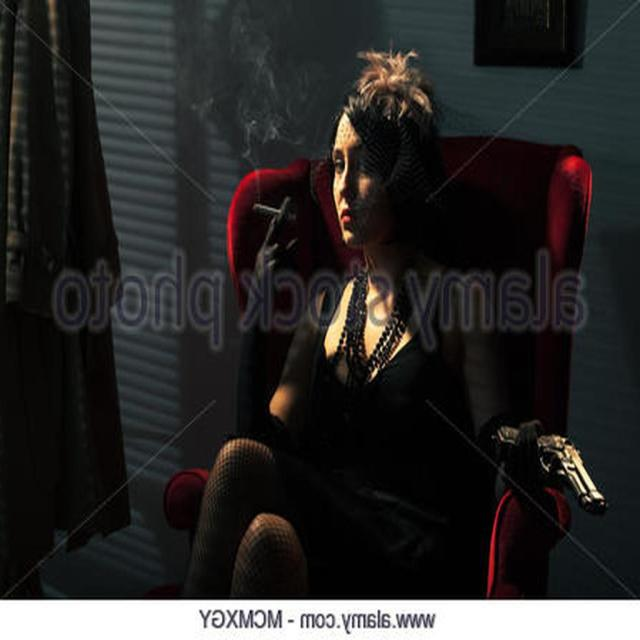smoking: (245, 74, 440, 289)
